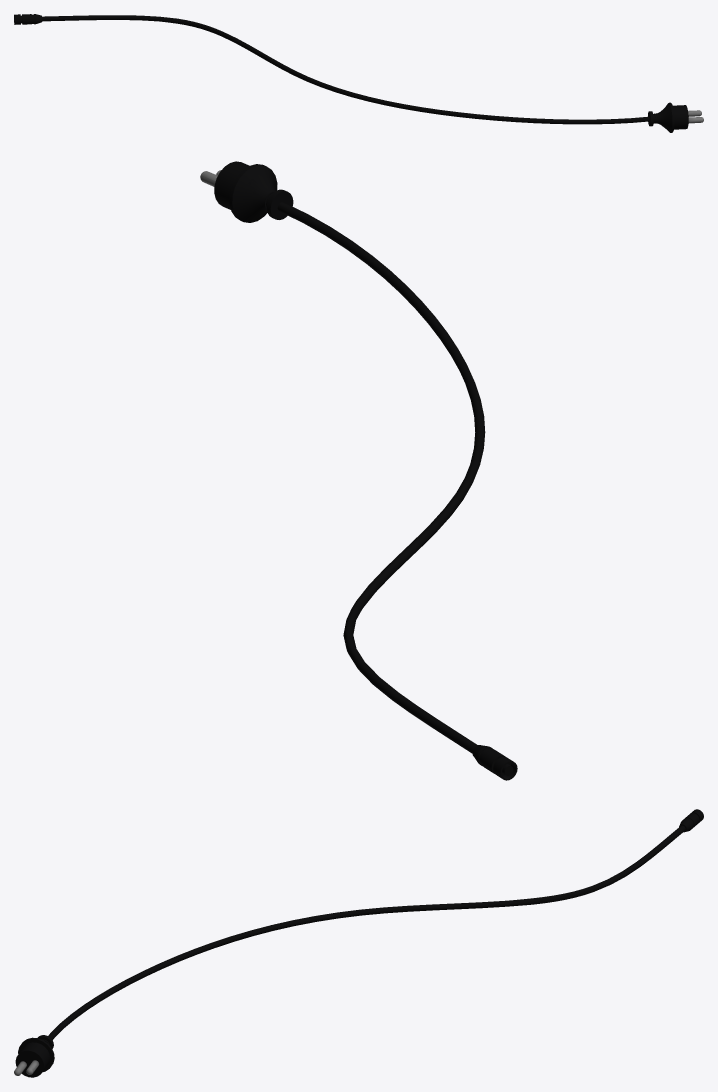
The model's file is Cable_court.fbx.
3 views of the same model, one above another, from view 1: azimuth 30°, elevation 25°; view 2: azimuth 150°, elevation 25°; view 3: azimuth 270°, elevation 25° (orthographic). The views are drawn at different scales.
Visible parts, largest first — view 1: polySurface169; view 2: polySurface169; view 3: polySurface169.
Boxes of the visible parts, left/top/right/bottom form: polySurface169: left=14, top=14, right=703, bottom=132; polySurface169: left=200, top=161, right=517, bottom=780; polySurface169: left=14, top=809, right=703, bottom=1077.
Size of the model in its own units: 149 by 9.22 by 168.
Materials: 1 (1 with a texture image).
